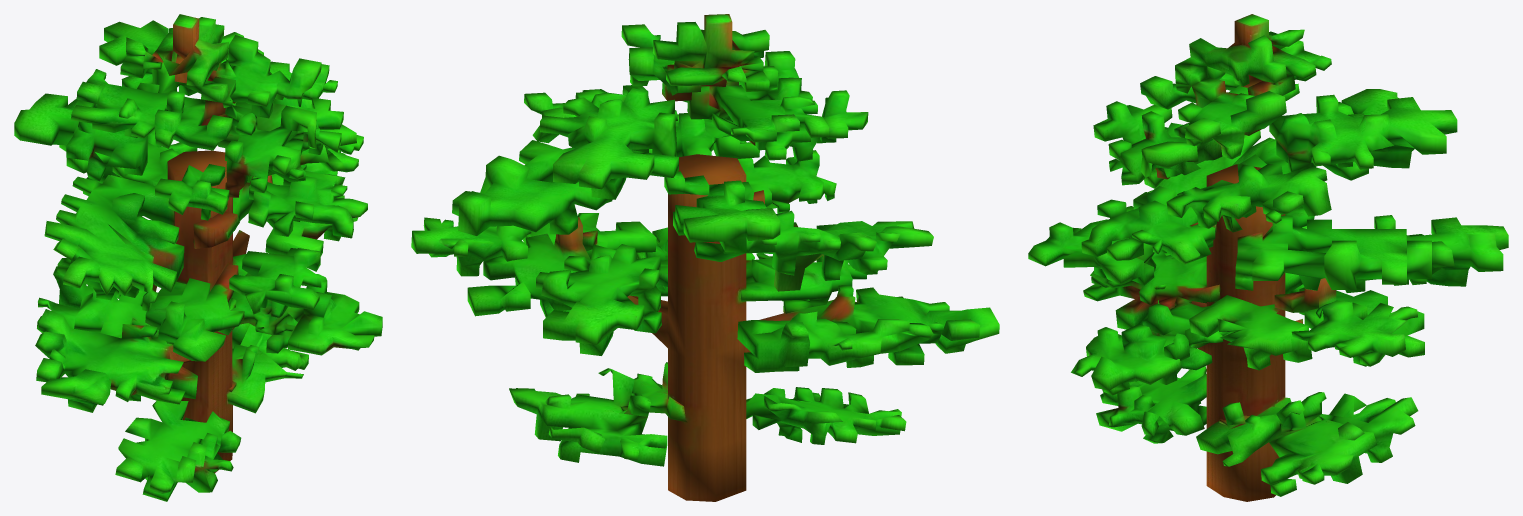
File: pine.glb
3 views of the same model, side by side, from view 1: azimuth 30°, elevation 25°; view 2: azimuth 150°, elevation 25°; view 3: azimuth 270°, elevation 25° (orthographic). The views are drawn at different scales.
Parts seen in each view (by area): view 1: tripo_node_d17ba265-5f4d-4c91-85a1-ced1c5724bc0; view 2: tripo_node_d17ba265-5f4d-4c91-85a1-ced1c5724bc0; view 3: tripo_node_d17ba265-5f4d-4c91-85a1-ced1c5724bc0.
Part boxes in pixels (left/top/right/bottom): tripo_node_d17ba265-5f4d-4c91-85a1-ced1c5724bc0: left=14, top=14, right=382, bottom=501; tripo_node_d17ba265-5f4d-4c91-85a1-ced1c5724bc0: left=411, top=14, right=999, bottom=501; tripo_node_d17ba265-5f4d-4c91-85a1-ced1c5724bc0: left=1028, top=14, right=1508, bottom=501.
Bounding box in the file's own units: 0.9995 × 0.9888 × 0.9263.
Materials: 1 (1 with a texture image).
